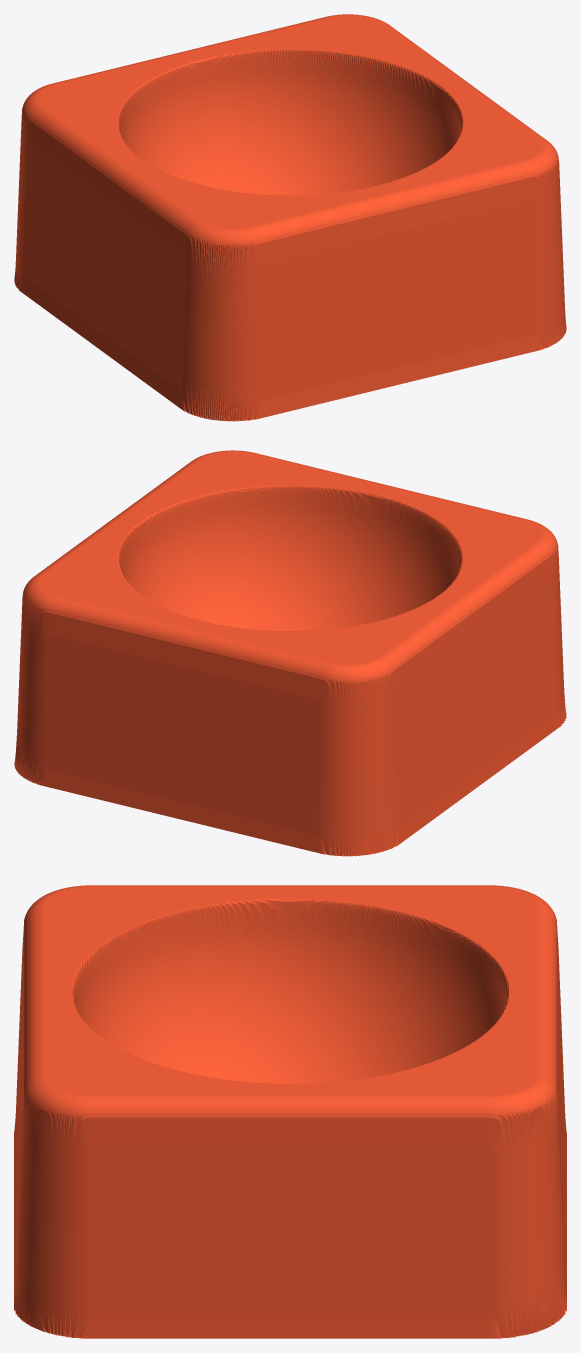
Rendered from mold.glb.
3 views of the same model, one above another, from view 1: azimuth 30°, elevation 25°; view 2: azimuth 150°, elevation 25°; view 3: azimuth 270°, elevation 25° (orthographic). The views are drawn at different scales.
Visible parts, largest first — view 1: geometry_0; view 2: geometry_0; view 3: geometry_0.
Boxes of the visible parts, x1=… form: geometry_0: x1=14, y1=14, x2=566, y2=421; geometry_0: x1=14, y1=450, x2=566, y2=856; geometry_0: x1=14, y1=885, x2=566, y2=1338.
Size of the model in its own units: 0.065 by 0.0299 by 0.065.
